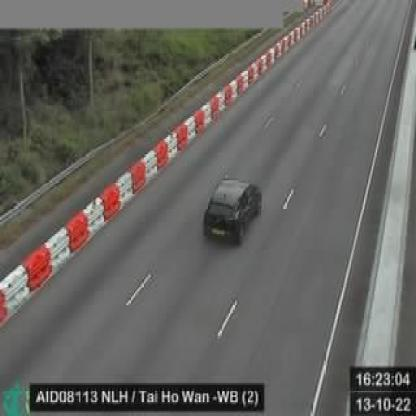Car: (200, 174, 261, 246)
